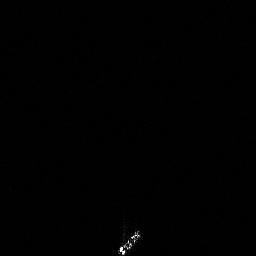ship: (114, 227, 143, 256)
